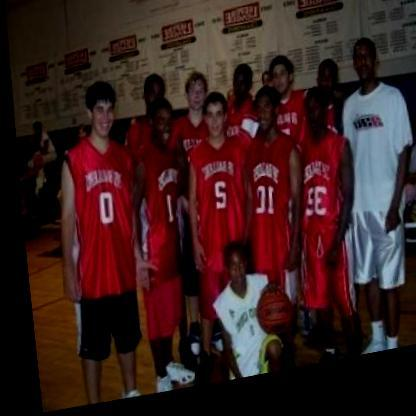basketball: (243, 291, 291, 349)
